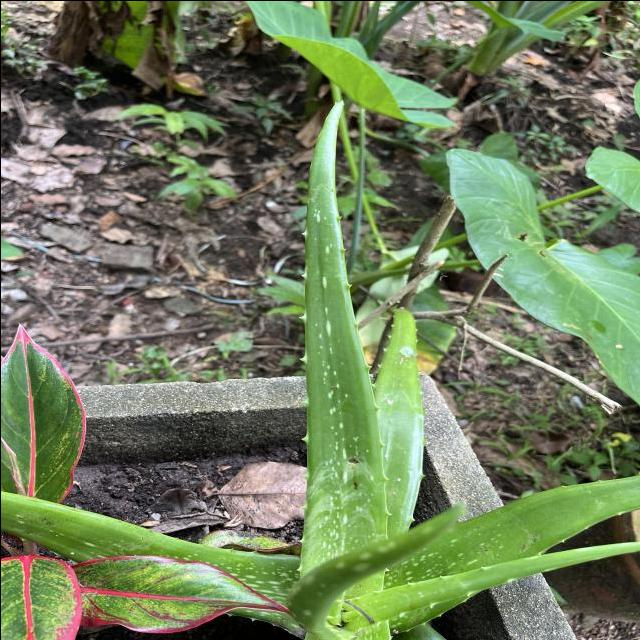Aloe vera: (290, 97, 392, 579)
